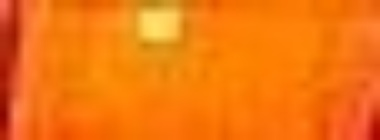Hotspot: (134, 2, 188, 47)
